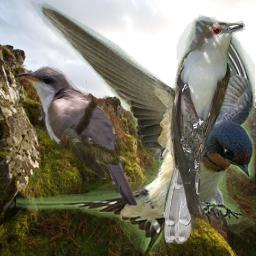Cuckoo: (161, 18, 246, 244), (15, 64, 137, 211)
Swallow: (16, 0, 255, 254)
